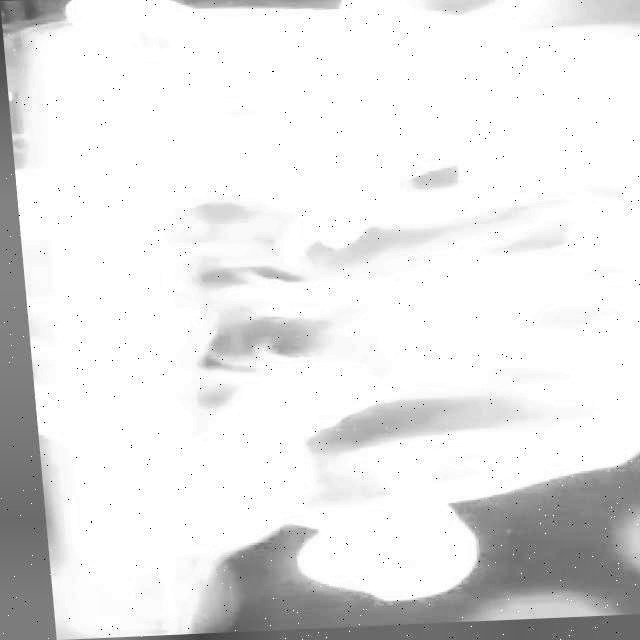Fire: (0, 0, 640, 634)
